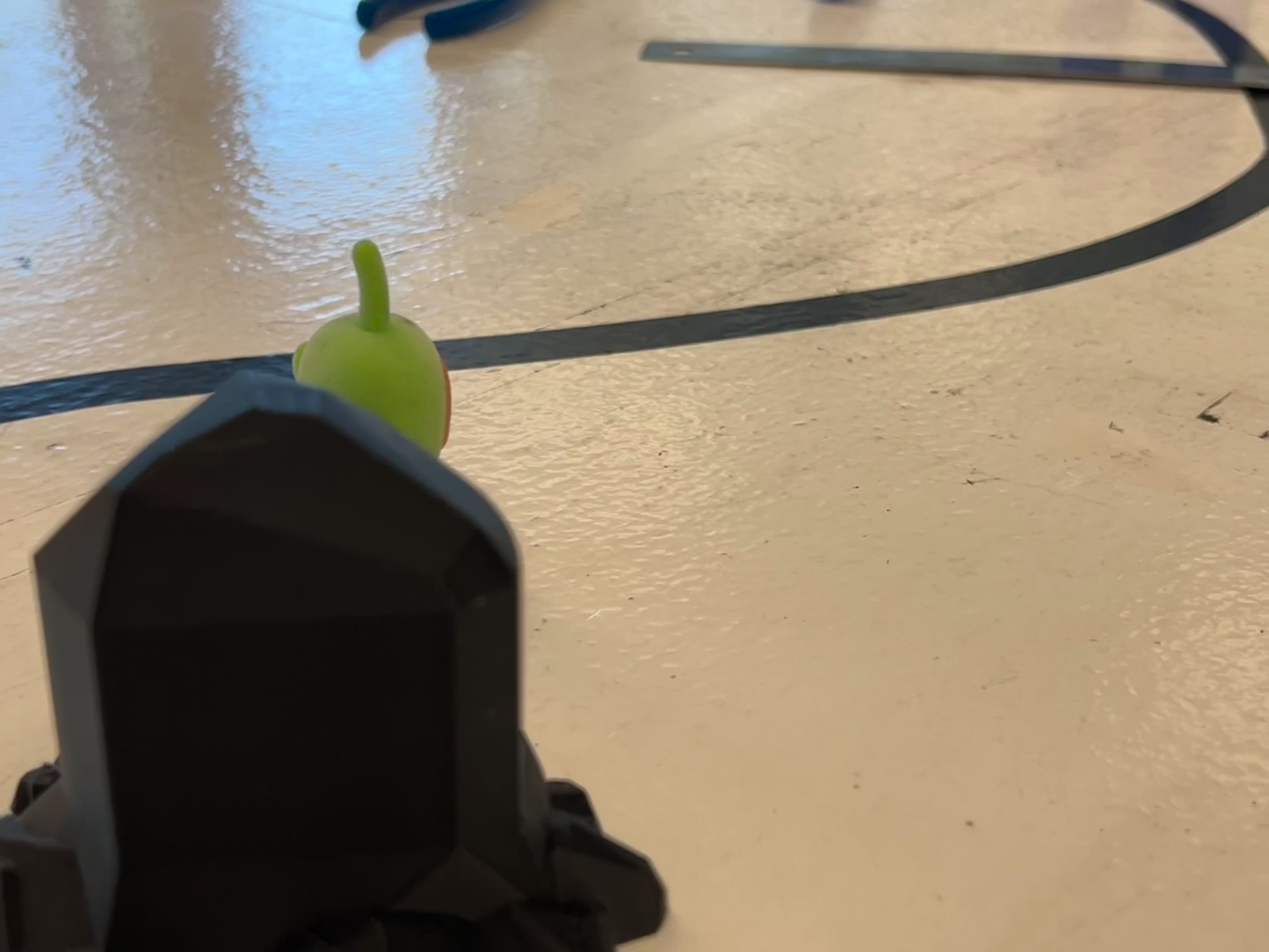teletubby: (291, 240, 451, 456)
